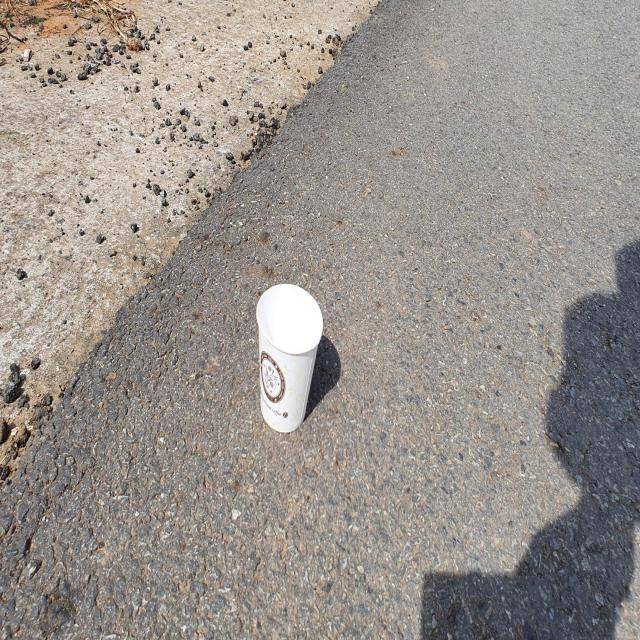paperpack: (256, 283, 323, 432)
